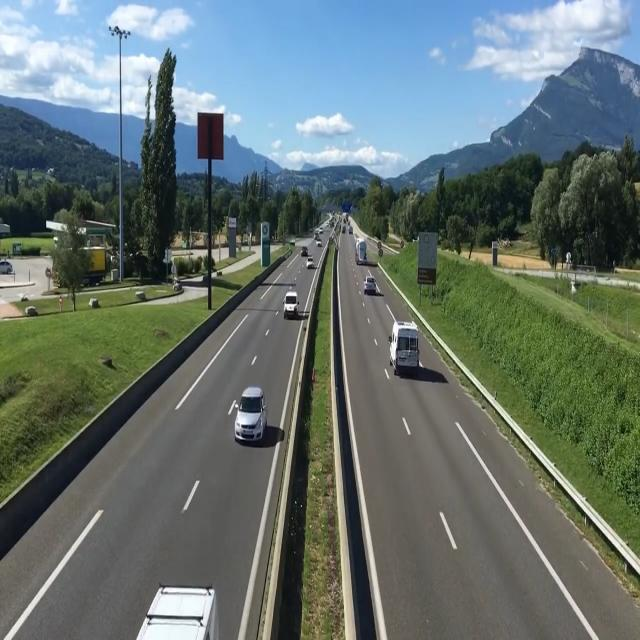car: (124, 583, 232, 640), (235, 382, 269, 447), (390, 320, 422, 380), (280, 282, 302, 323), (361, 272, 379, 298)
truck: (357, 230, 371, 266)
